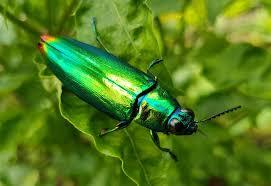insect: (34, 30, 246, 165)
